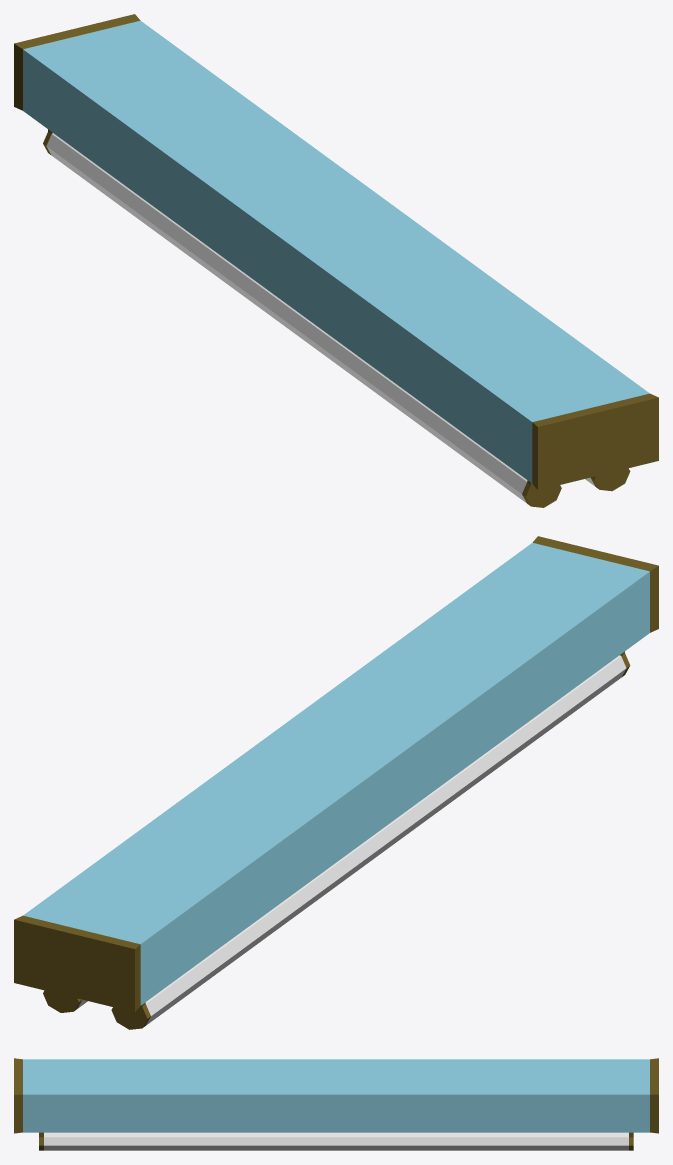
Rendered from LuzTecho.fbx.
3 views of the same model, one above another, from view 1: azimuth 30°, elevation 25°; view 2: azimuth 150°, elevation 25°; view 3: azimuth 270°, elevation 25° (orthographic). The views are drawn at different scales.
Parts seen in each view (by area): view 1: Cube, Cylinder; view 2: Cube, Cylinder; view 3: Cube, Cylinder.
Part boxes in pixels (x1,y1,x2,y2): Cube: (14, 14, 658, 490); Cylinder: (43, 129, 630, 507); Cube: (14, 536, 658, 1012); Cylinder: (43, 651, 630, 1029); Cube: (14, 1058, 658, 1133); Cylinder: (39, 1132, 633, 1150).
Size of the model in its own units: 20.57 by 16.61 by 154.
